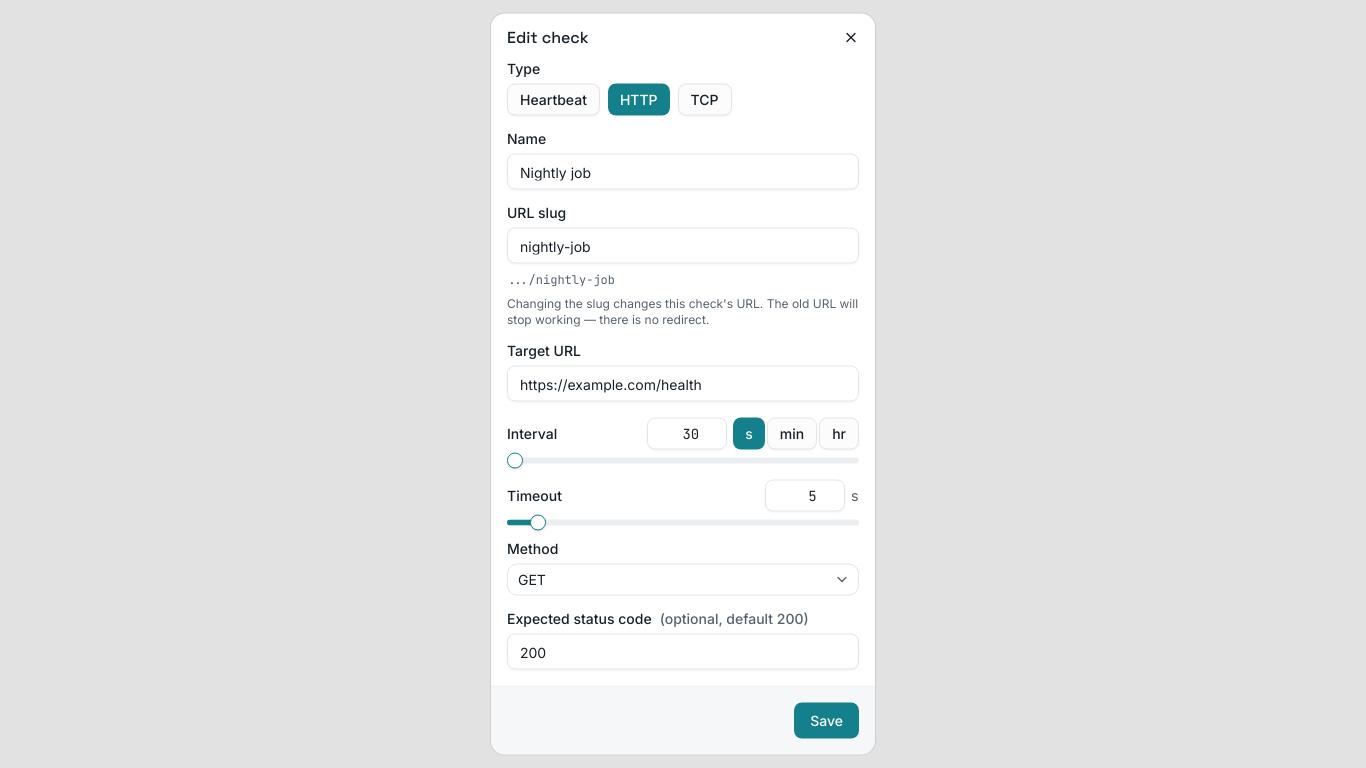
Test: EditCheckDialog › rejects a type conversion that retains a grandfathered cadence
The image size is (1366, 768).
Check: the button "Save" is enabled, box [794,702,859,738]
Click the button "TCP".
click(705, 100)  # box [678,84,732,116]
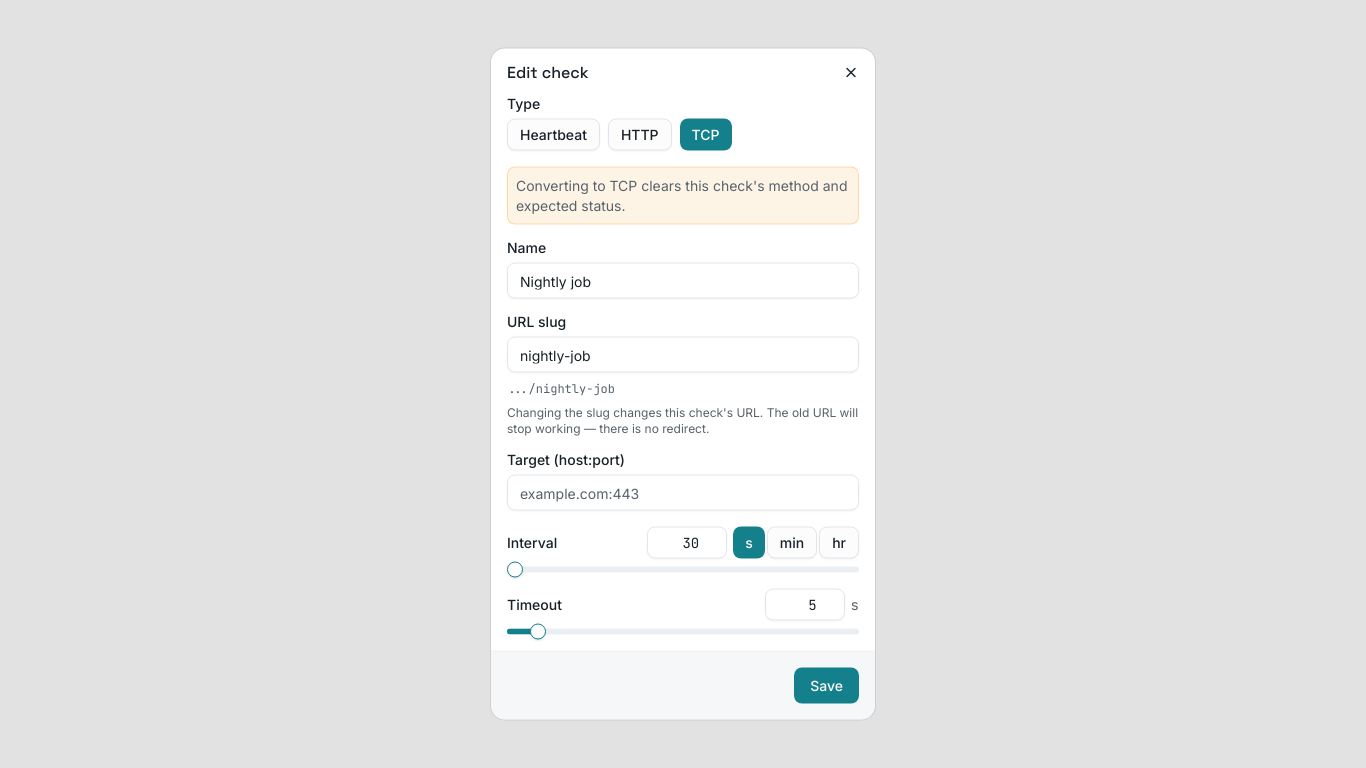
Submit the form, box [507,96,859,704]
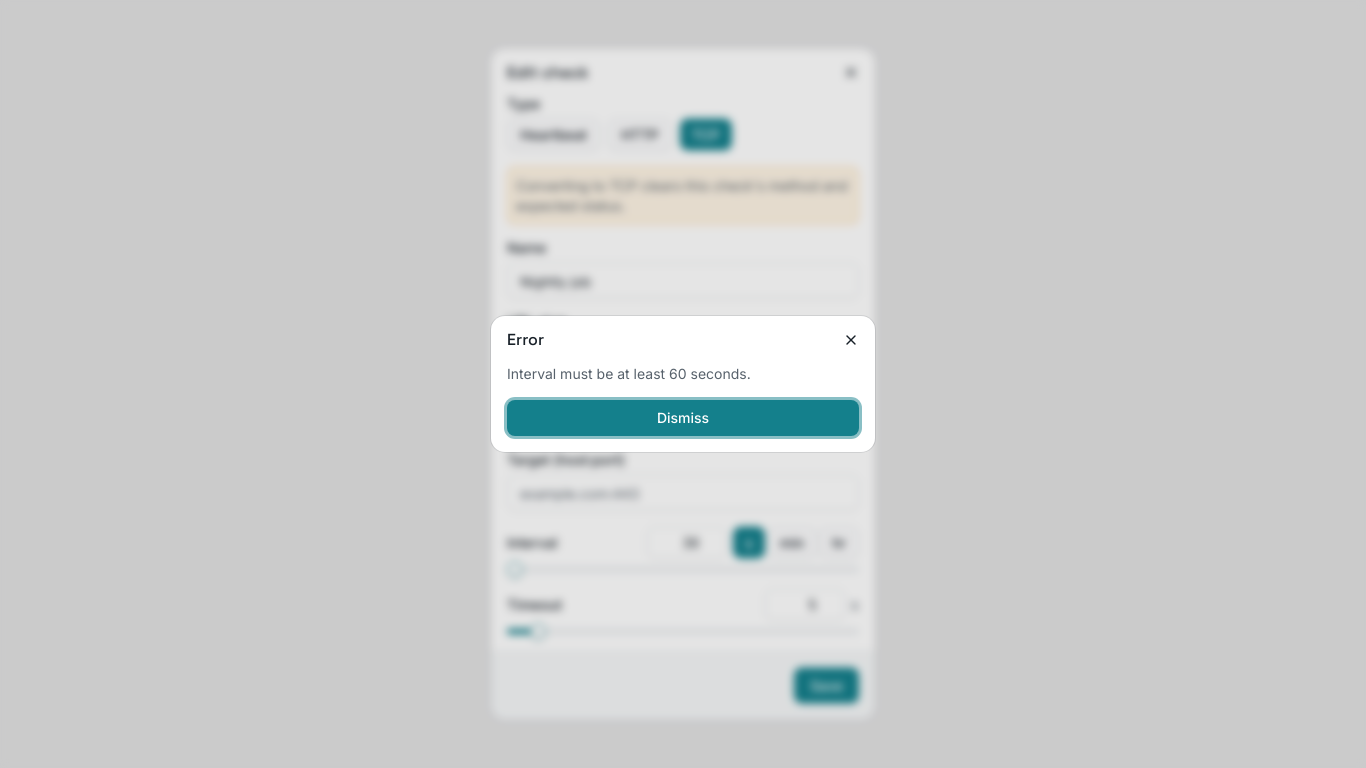
Check: the text "Interval must be at least 60 seconds." is shown, box [507,365,751,382]
